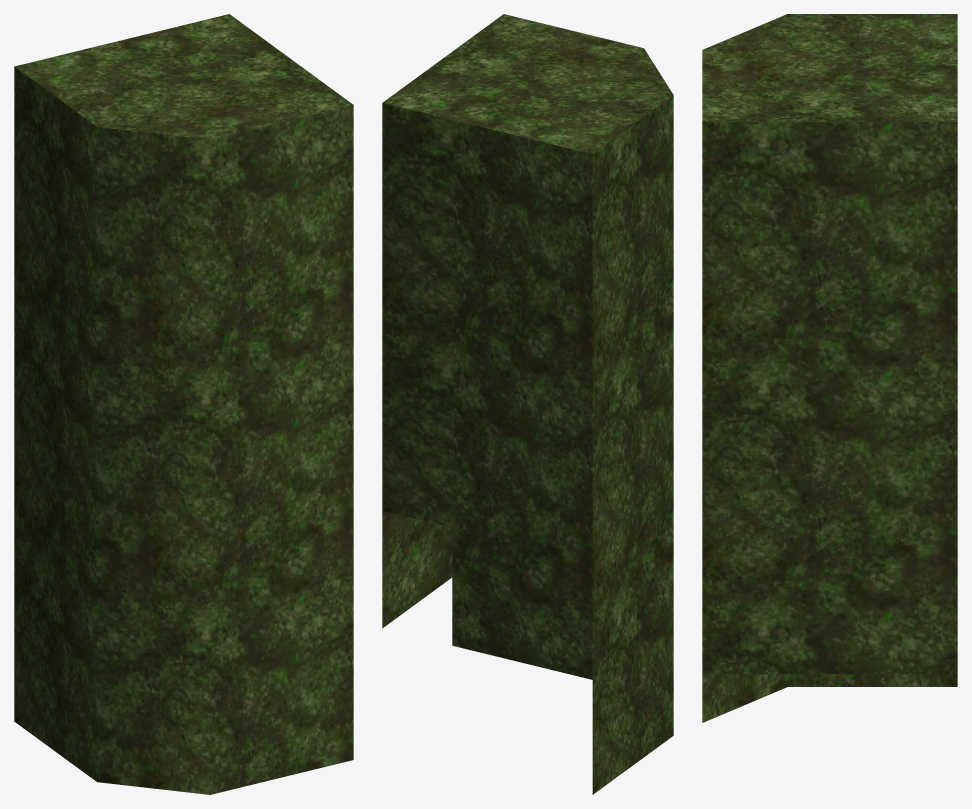
The model's file is OVERHILL_A_01_OBJECT93.fbx.
3 renders of one model, left to right at view 1: azimuth 30°, elevation 25°; view 2: azimuth 150°, elevation 25°; view 3: azimuth 270°, elevation 25°, orthographic. The views are drawn at different scales.
Visible parts, largest first — view 1: OVERHILL_A_01_OBJECT93; view 2: OVERHILL_A_01_OBJECT93; view 3: OVERHILL_A_01_OBJECT93.
Boxes of the visible parts, x1=… form: OVERHILL_A_01_OBJECT93: x1=14, y1=14, x2=353, y2=794; OVERHILL_A_01_OBJECT93: x1=382, y1=14, x2=673, y2=794; OVERHILL_A_01_OBJECT93: x1=702, y1=14, x2=957, y2=722.
Bounding box in the file's own units: 30000 × 87311 × 30000.
Materials: 1 (1 with a texture image).
